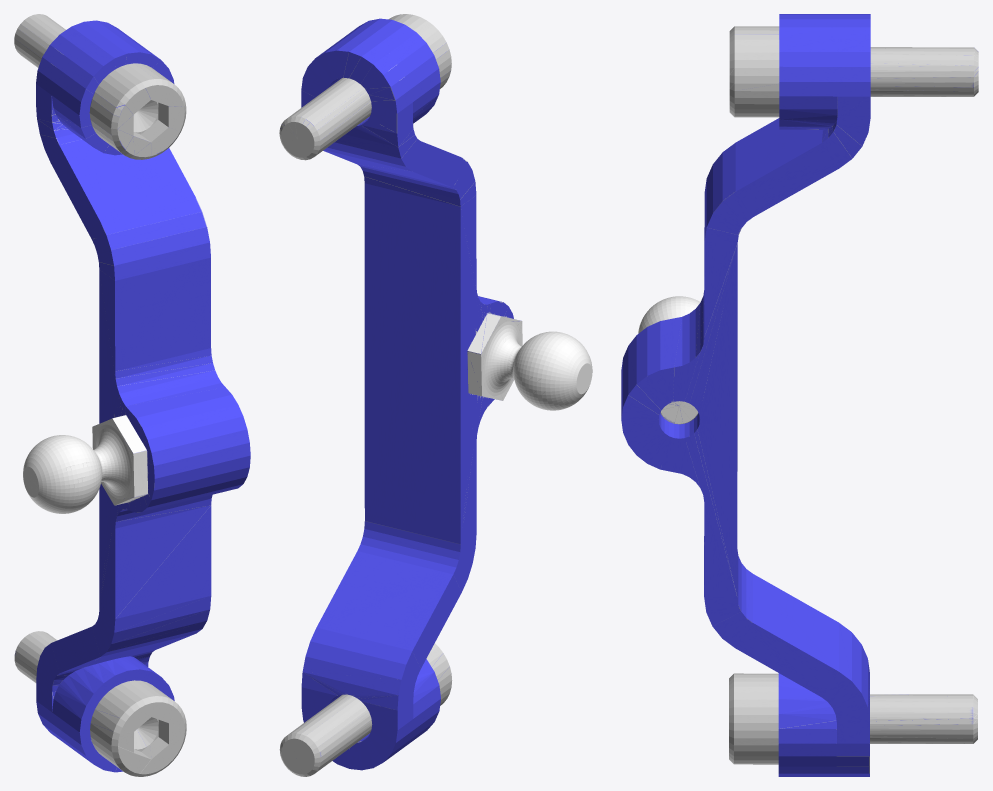
Rendered from Coupler.dae.
The picture shows the model from 3 angles, left to right: view 1: azimuth 30°, elevation 25°; view 2: azimuth 150°, elevation 25°; view 3: azimuth 270°, elevation 25°; orthographic projection. The views are drawn at different scales.
Visible parts, largest first — view 1: node; view 2: node; view 3: node.
Boxes of the visible parts, box(x1,y1,x2,y2) form: node: box(14, 14, 250, 776); node: box(279, 14, 592, 776); node: box(621, 14, 978, 776).
Size of the model in its own units: 0.014 by 0.05 by 0.0215.
Materials: 1 (1 with a texture image).
